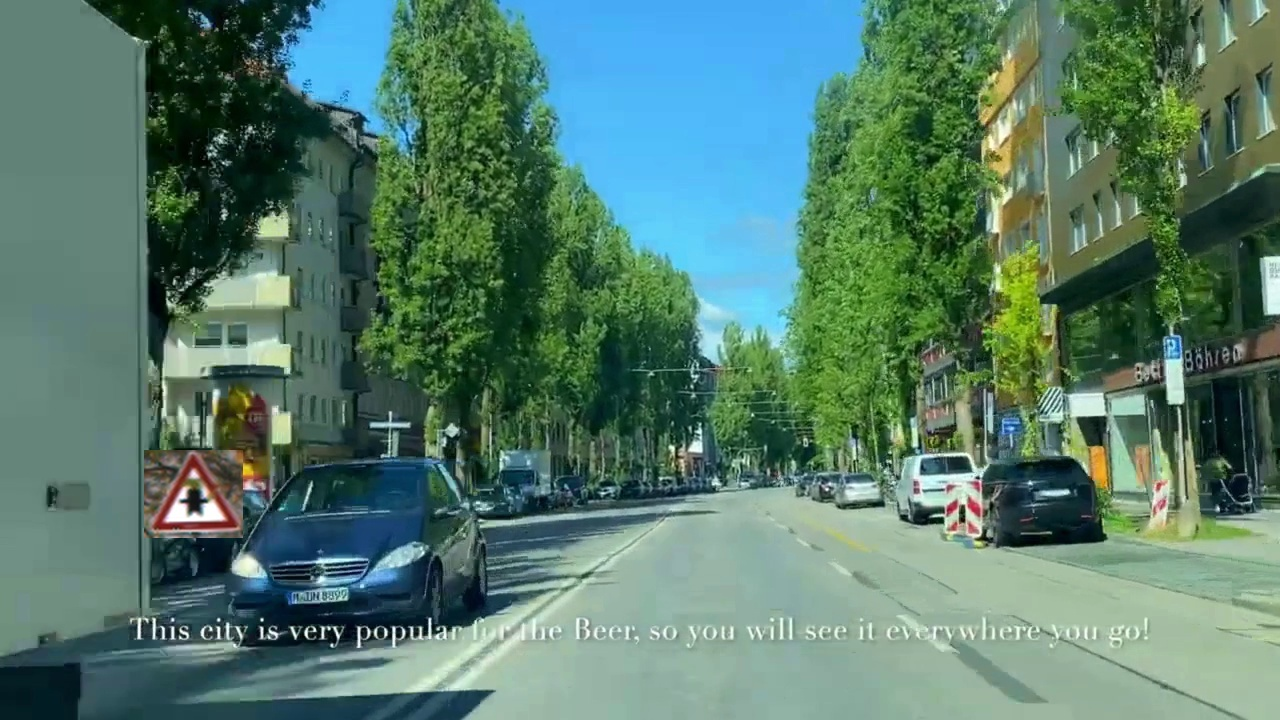Right-of-way: (144, 450, 243, 538)
